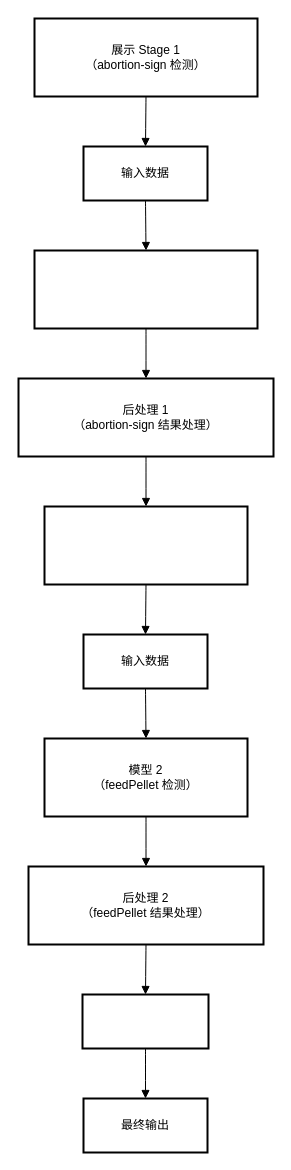
The diagram is 291 pixels wide and 1170 high, and some of its shapes have lost their labels. Here are the shapes that lost their labels. From the top down, the centre of each, then its label:
(x=145, y=289): 模型 1 （abortion-sign 检测）
(x=145, y=545): 展示 Stage 2 （feedPellet 检测）
(x=145, y=1021): NMS 融合
